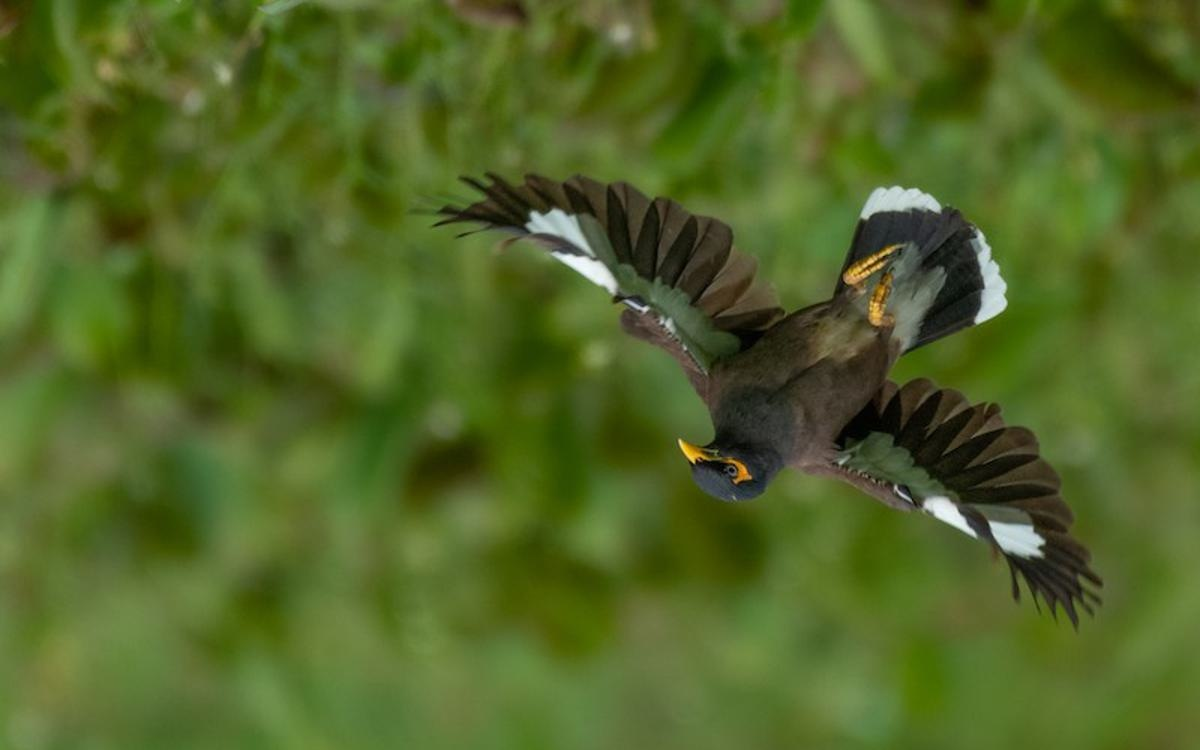myna: (433, 99, 1135, 630)
